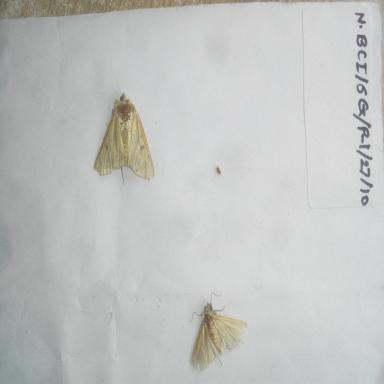abw: (88, 85, 160, 191), (187, 288, 251, 376)
